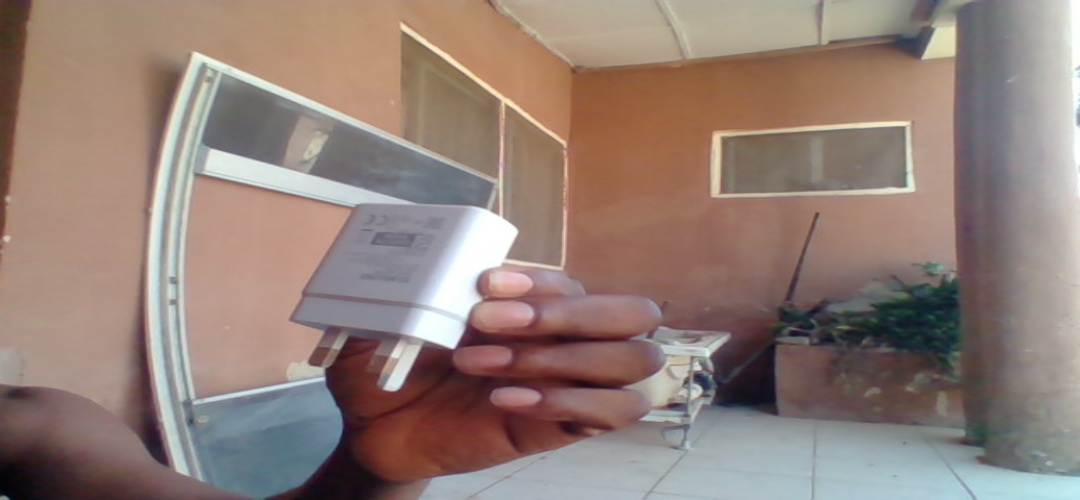phone_charger: (272, 193, 515, 399)
